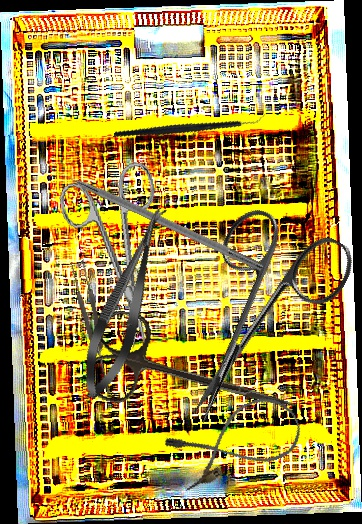Cannula: (162, 388, 309, 495)
Chopper: (113, 76, 266, 174)
Hook Surgical: (46, 161, 266, 272)
Iris Scissors: (144, 194, 361, 451), (82, 306, 306, 445), (55, 159, 184, 358)
Micro Scissor: (72, 200, 180, 405)
Tissue Forceps: (68, 258, 117, 396)
